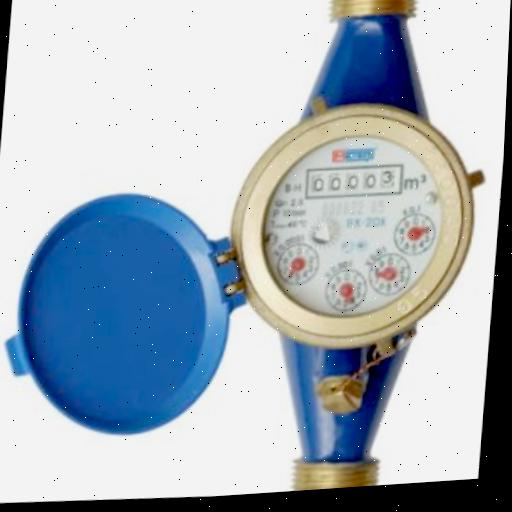0: (362, 171, 379, 190), (311, 173, 327, 193), (328, 172, 344, 192), (345, 171, 361, 191)
3: (381, 168, 397, 189)
border_water_meter_number: (303, 158, 405, 202)
